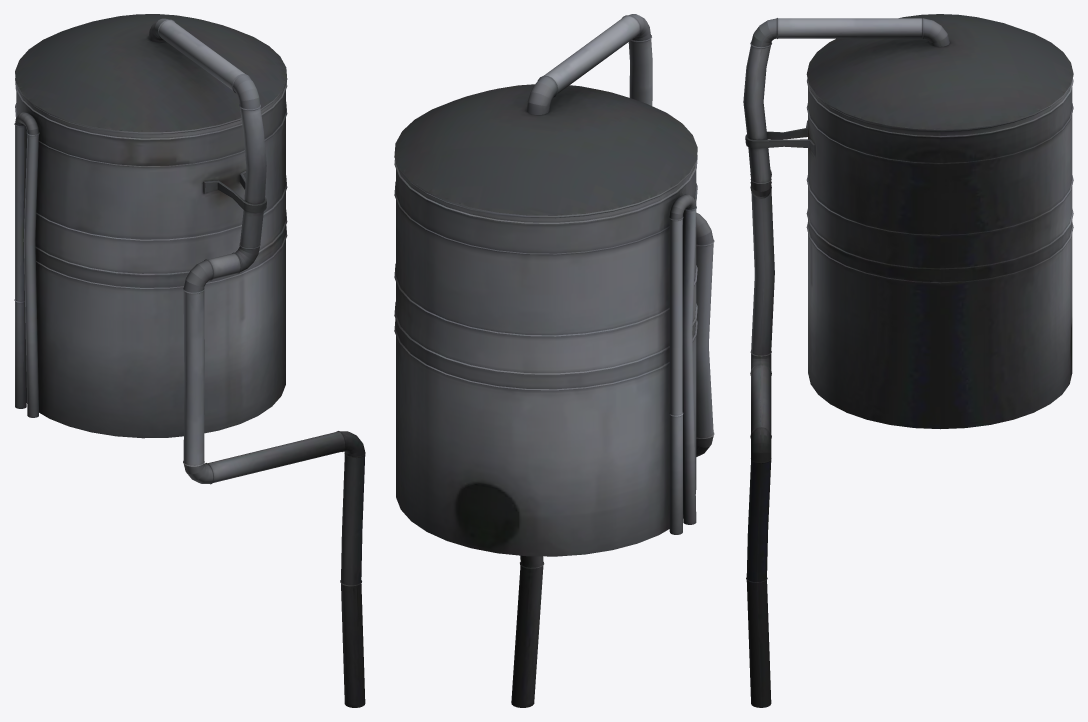
3 views of the same model, side by side, from view 1: azimuth 30°, elevation 25°; view 2: azimuth 150°, elevation 25°; view 3: azimuth 270°, elevation 25° (orthographic). The views are drawn at different scales.
Visible parts, largest first — view 1: body0_model0_lod0_mesh0; view 2: body0_model0_lod0_mesh0; view 3: body0_model0_lod0_mesh0.
Boxes of the visible parts, x1,y1,x2,y2 form: body0_model0_lod0_mesh0: [14, 14, 365, 707]; body0_model0_lod0_mesh0: [394, 14, 714, 707]; body0_model0_lod0_mesh0: [743, 14, 1073, 707].
Size of the model in its own units: 254 by 628 by 296.
1 material, 1 textured.
